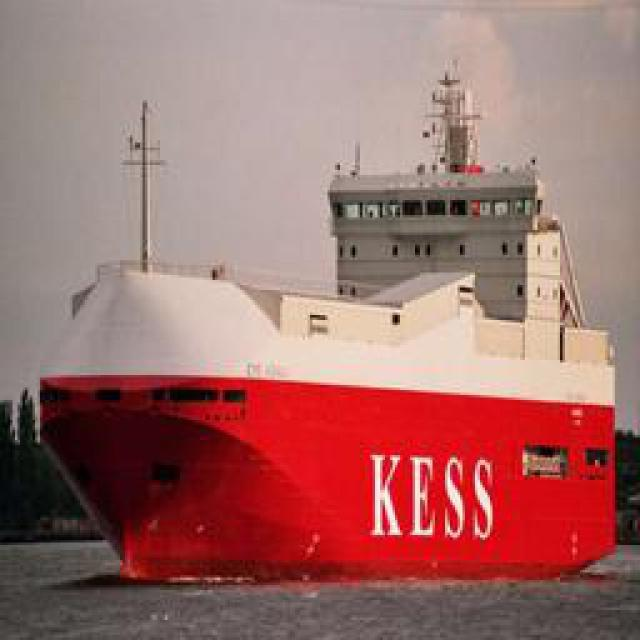Ship: (321, 45, 549, 328)
